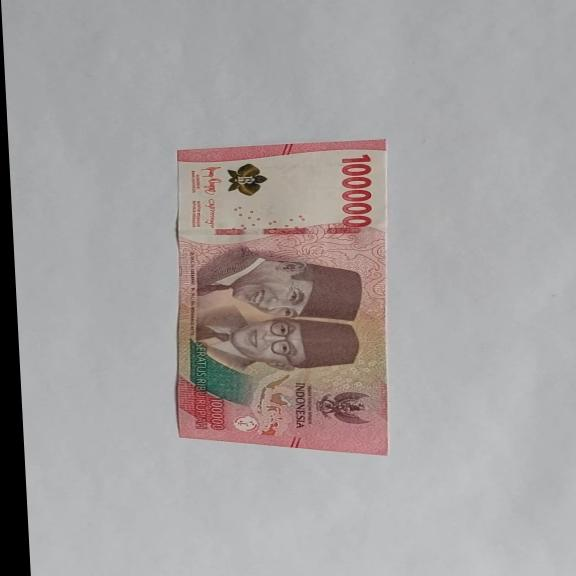Kertas: (161, 138, 404, 457), (336, 153, 378, 229)
